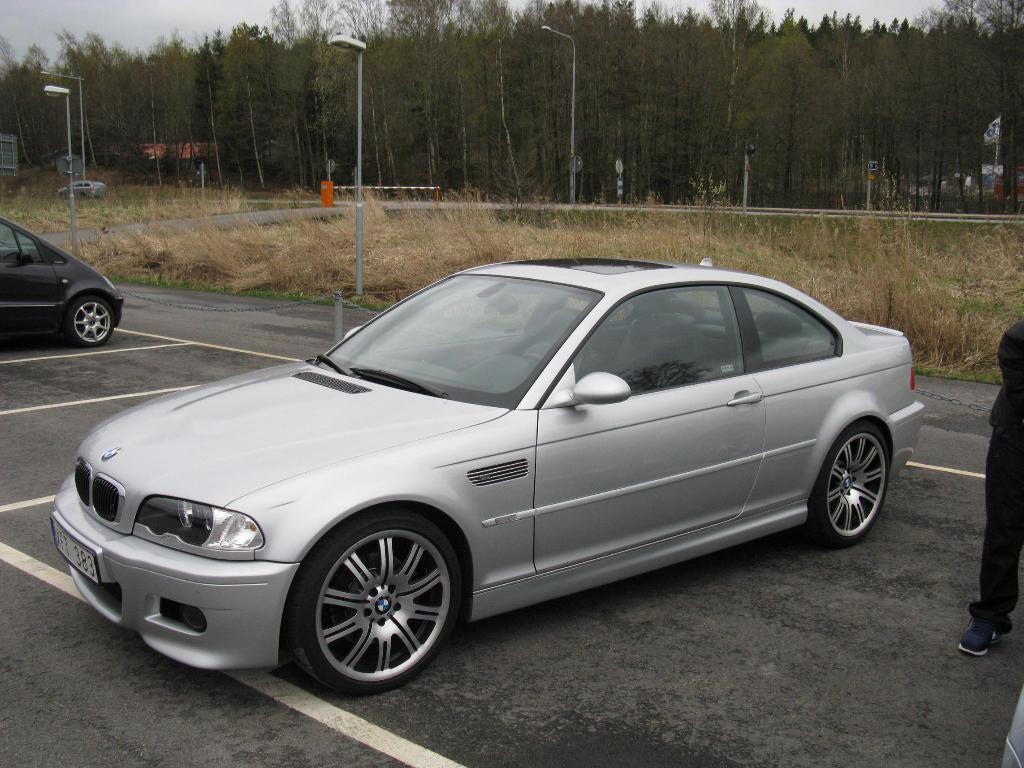Car: (38, 254, 924, 696), (0, 215, 122, 346), (1001, 685, 1023, 767), (55, 178, 107, 199), (911, 172, 942, 188)
